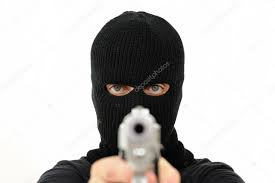gun: (117, 106, 164, 175)
